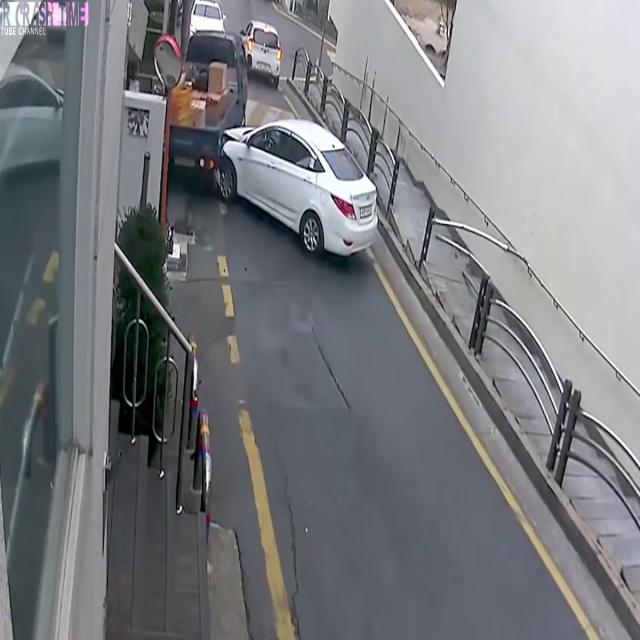accident: (159, 21, 384, 271)
